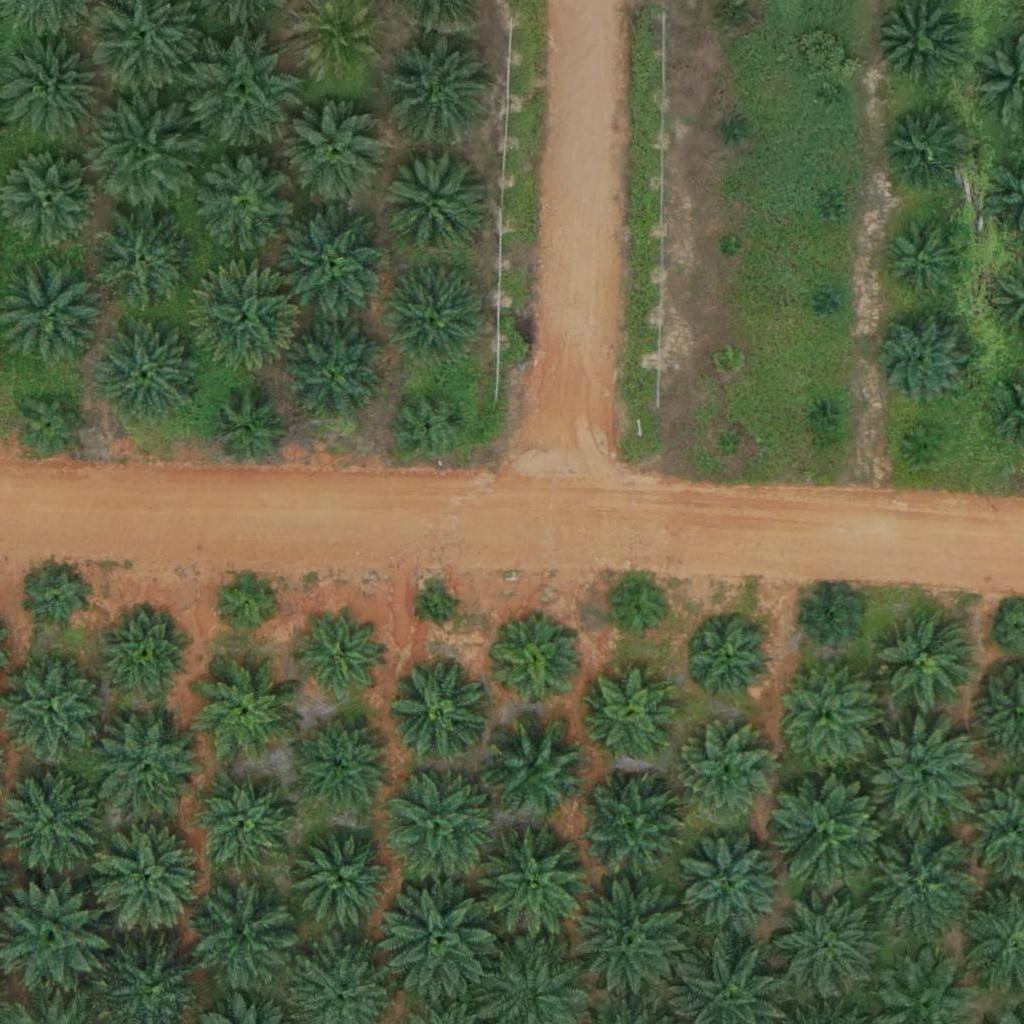Kelapa_Sawit: (374, 880, 499, 1006), (563, 879, 688, 1005), (769, 769, 894, 895), (852, 818, 977, 944), (87, 819, 212, 944), (188, 33, 301, 147), (477, 828, 590, 942), (577, 769, 690, 883), (277, 206, 390, 319), (866, 718, 979, 831), (190, 267, 302, 380), (866, 303, 978, 416), (385, 32, 497, 145), (85, 99, 197, 212), (383, 763, 495, 876), (677, 830, 789, 943), (768, 887, 880, 1000), (284, 324, 384, 425), (93, 215, 193, 316), (97, 322, 197, 423), (1, 657, 101, 758), (1, 769, 101, 870), (96, 714, 196, 815), (198, 661, 298, 762), (193, 776, 293, 877), (194, 890, 294, 991), (290, 713, 390, 814), (292, 829, 392, 930), (673, 723, 773, 824), (777, 664, 877, 765), (877, 612, 977, 713), (382, 152, 482, 252), (387, 266, 487, 366), (288, 105, 388, 205), (194, 155, 294, 255), (390, 658, 490, 758), (485, 716, 585, 816), (884, 214, 972, 303), (881, 106, 969, 194), (295, 613, 383, 701), (588, 668, 676, 756), (687, 617, 775, 705), (107, 610, 194, 698), (494, 622, 581, 710), (393, 388, 468, 464), (211, 394, 286, 469), (15, 388, 90, 463), (799, 587, 862, 650), (28, 567, 90, 630), (214, 568, 276, 631), (609, 580, 671, 643), (906, 425, 944, 463), (421, 588, 458, 626), (822, 85, 847, 110), (816, 201, 841, 226), (722, 5, 747, 30), (722, 118, 747, 143), (718, 236, 743, 261), (714, 348, 739, 373), (717, 432, 742, 457), (817, 290, 842, 315), (810, 400, 835, 425)
